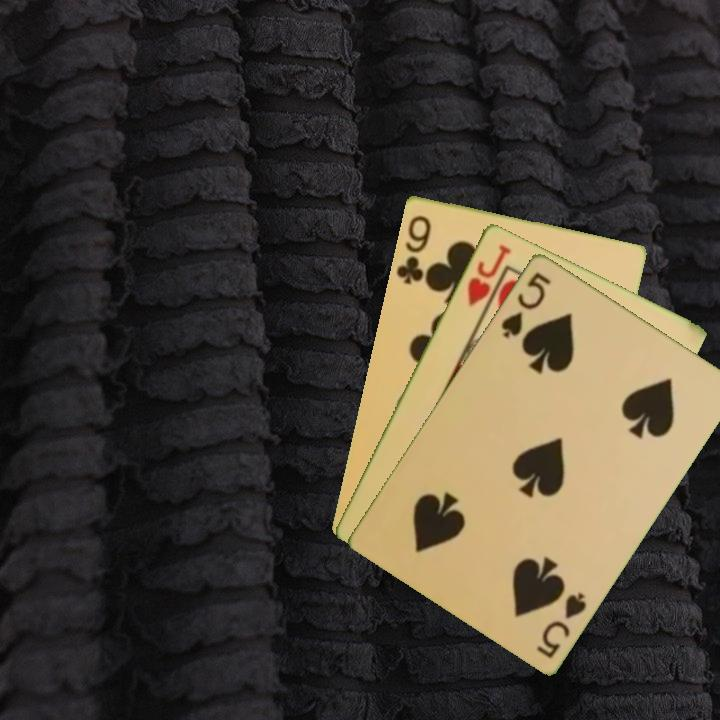5s: (497, 268, 554, 341), (533, 588, 590, 661)
9c: (392, 211, 434, 287)
Jh: (463, 240, 514, 310)
